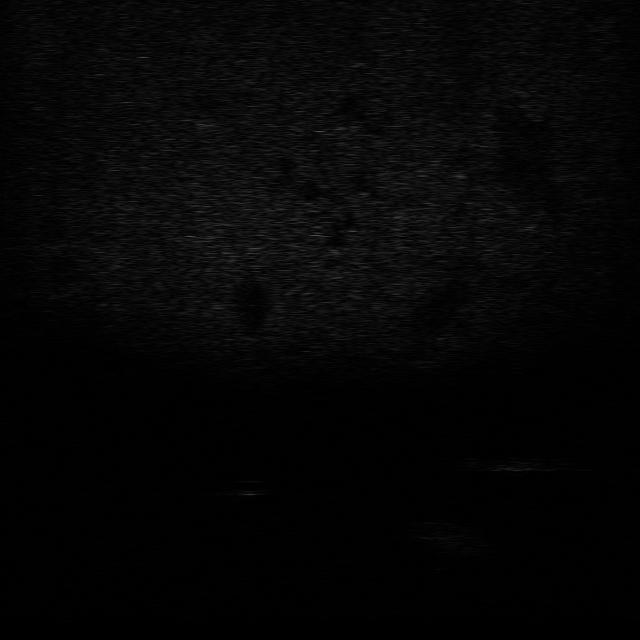ball: (218, 474, 272, 499)
circle cage: (404, 518, 490, 562)
human body: (470, 449, 581, 475)
